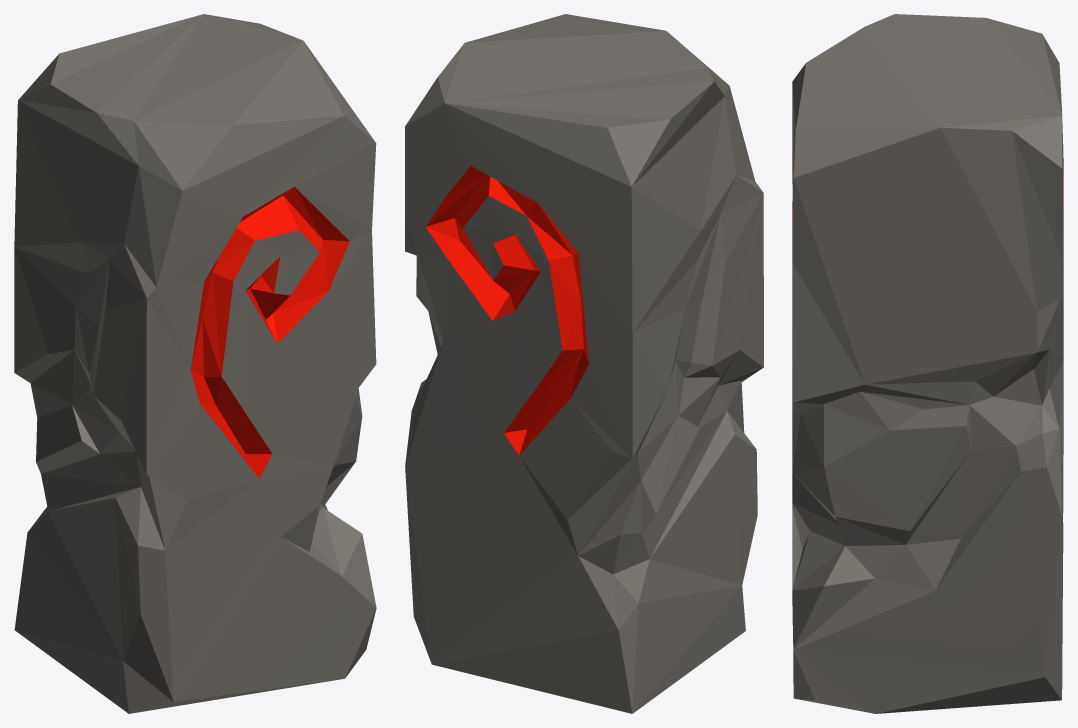
Rendered from SM_Env_Rune_Pillar_01.glb.
3 views of the same model, side by side, from view 1: azimuth 30°, elevation 25°; view 2: azimuth 150°, elevation 25°; view 3: azimuth 270°, elevation 25° (orthographic). The views are drawn at different scales.
Visible parts, largest first — view 1: SM_Env_Rune_Pillar_01; view 2: SM_Env_Rune_Pillar_01; view 3: SM_Env_Rune_Pillar_01.
Boxes of the visible parts, <box> form: SM_Env_Rune_Pillar_01: <box>14,14,376,713</box>; SM_Env_Rune_Pillar_01: <box>405,14,763,713</box>; SM_Env_Rune_Pillar_01: <box>792,14,1063,713</box>.
Bounding box in the file's own units: 0.01 × 0.0238 × 0.01.
Materials: 1 (1 with a texture image).
